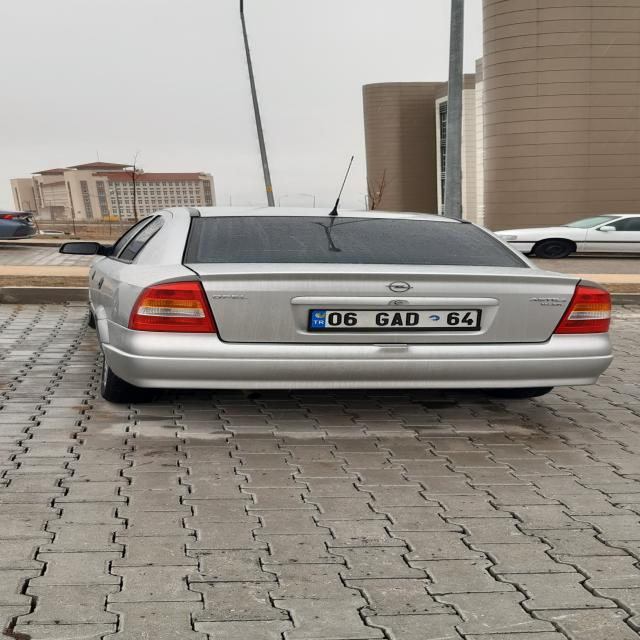license_plate: (310, 310, 480, 328)
